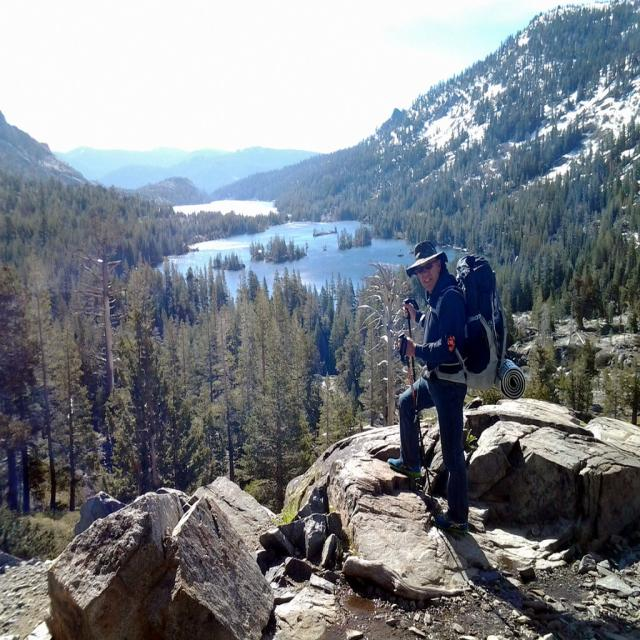backpack: (431, 255, 507, 392)
